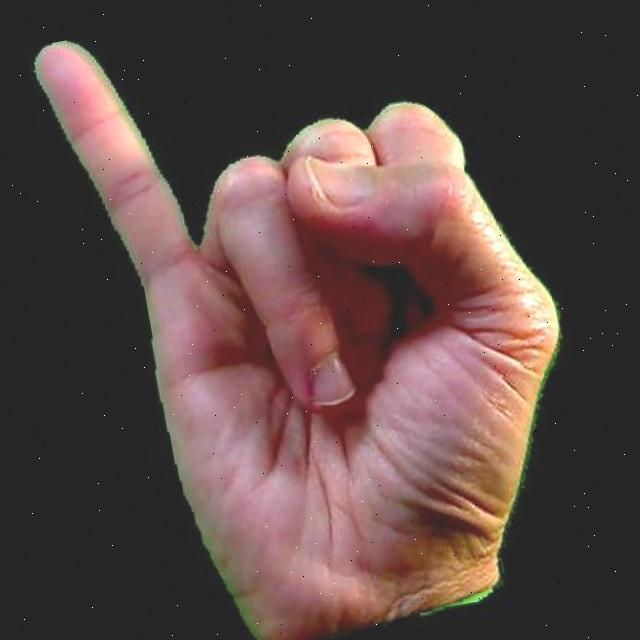i: (22, 0, 613, 640)
